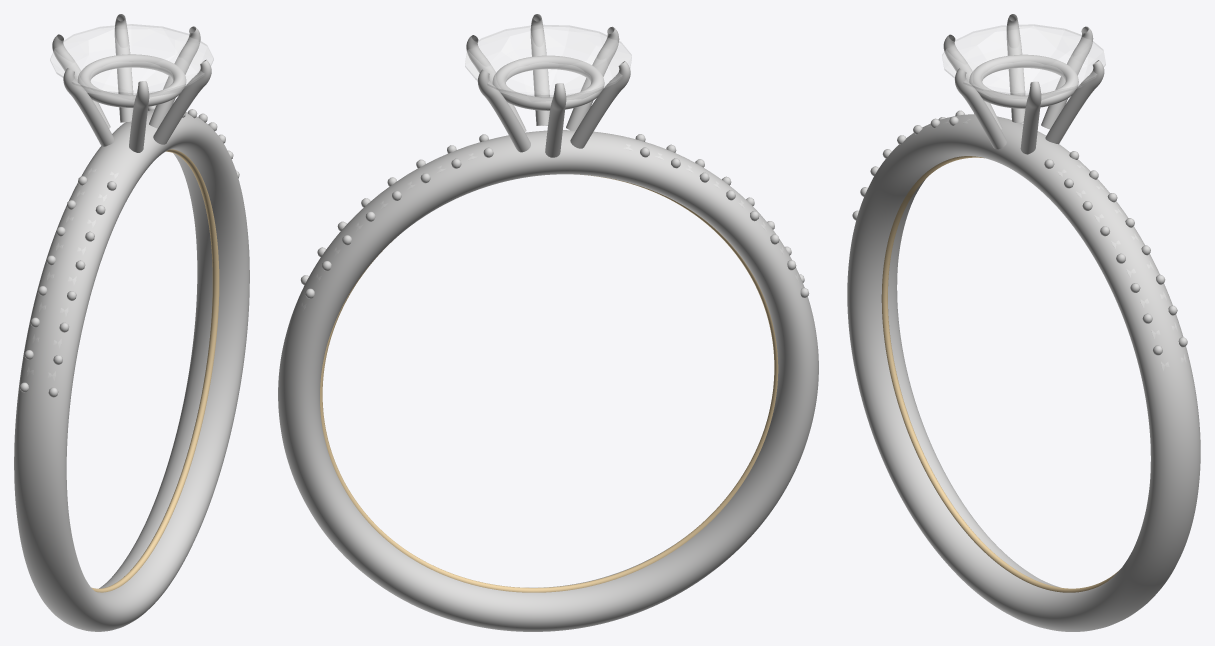
File: emblem.glb
3 renders of one model, left to right at view 1: azimuth 30°, elevation 25°; view 2: azimuth 150°, elevation 25°; view 3: azimuth 270°, elevation 25°, orthographic. The views are drawn at different scales.
Parts seen in each view (by area): view 1: Band, CenterStone, Claws, GoldRim, Gallery, Prongs, Pave; view 2: Band, CenterStone, Claws, GoldRim, Gallery, Prongs; view 3: Band, CenterStone, Claws, GoldRim, Gallery, Prongs.
Part boxes in pixels (x1,y1,x2,y2): Band: (14,109,249,631); CenterStone: (50,24,213,100); Claws: (52,14,211,152); GoldRim: (91,149,219,592); Gallery: (77,54,186,107); Prongs: (19,105,239,397); Pave: (27,110,186,380); Band: (278,130,818,631); CenterStone: (465,25,631,101); Claws: (466,14,630,157); GoldRim: (320,174,778,592); Gallery: (492,55,604,110); Prongs: (300,134,809,298); Band: (847,114,1200,631); CenterStone: (942,24,1105,99); Claws: (943,14,1104,154); GoldRim: (881,156,1120,592); Gallery: (969,54,1078,108); Prongs: (852,110,1187,355).
Size of the model in its own units: 0.0171 by 0.0246 by 0.0139.
